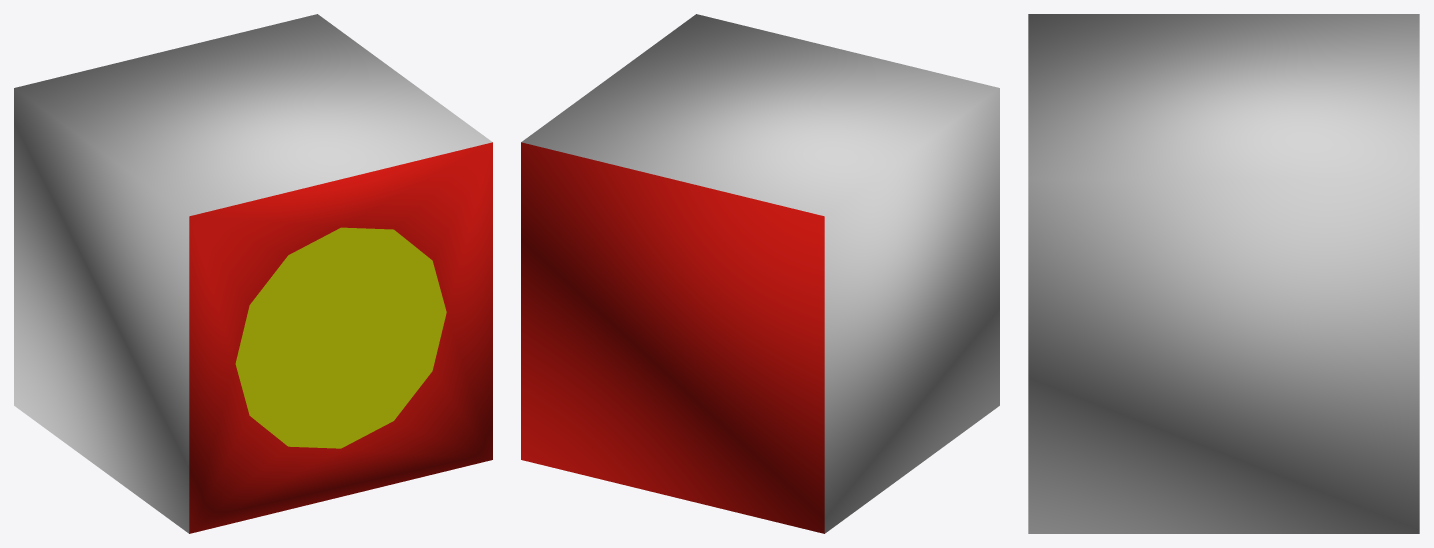
File: SmilyTemp.fbx
3 renders of one model, left to right at view 1: azimuth 30°, elevation 25°; view 2: azimuth 150°, elevation 25°; view 3: azimuth 270°, elevation 25°, orthographic. The views are drawn at different scales.
Parts seen in each view (by area): view 1: happyCube; view 2: happyCube; view 3: happyCube.
Part boxes in pixels (x1,y1,x2,y2): happyCube: (14,14,492,533); happyCube: (521,14,999,533); happyCube: (1028,14,1419,533).
Size of the model in its own units: 10 by 10 by 10.
